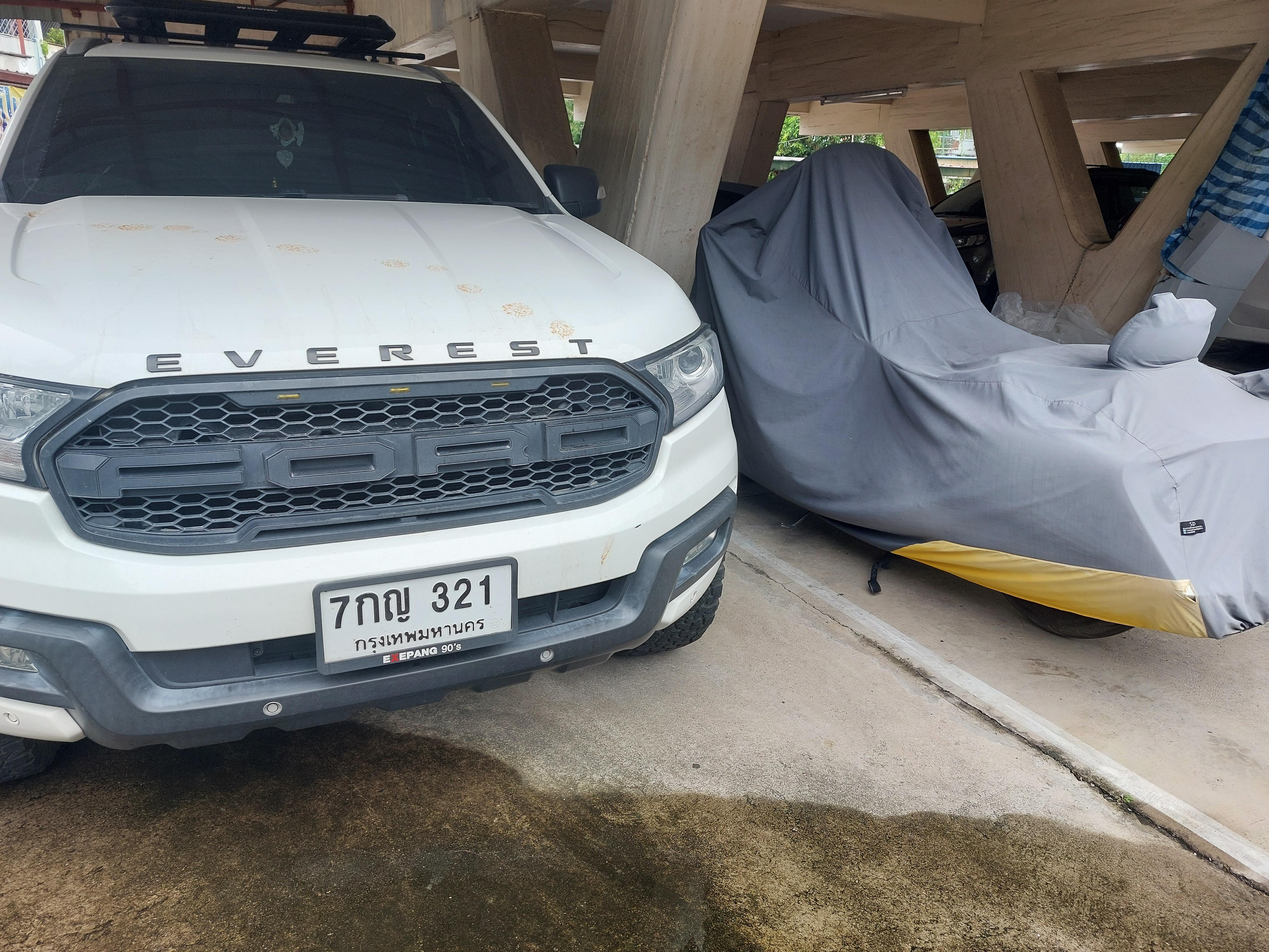license-plate: (313, 556, 527, 679)
